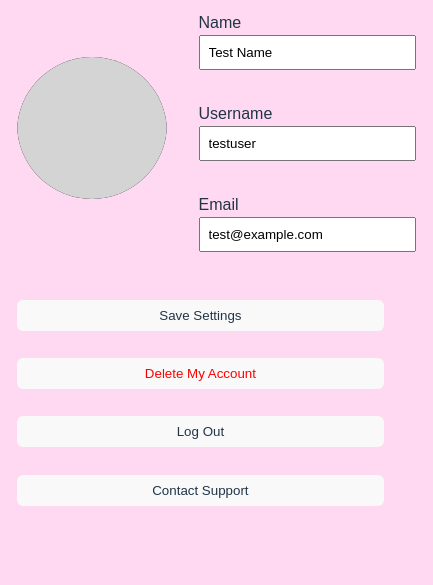
UserProfile Component › handles failed save gracefully
Expected: the 1st field showing "Test Name" is shown, x1=198 y1=35 x2=416 y2=70
Click the button "Save Settings".
click(200, 316)  # box x1=16 y1=300 x2=384 y2=331
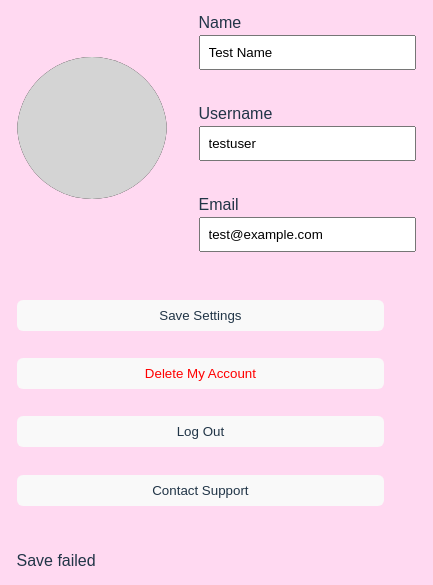
Expected: the text "Save failed" is shown, x1=16 y1=552 x2=96 y2=569
